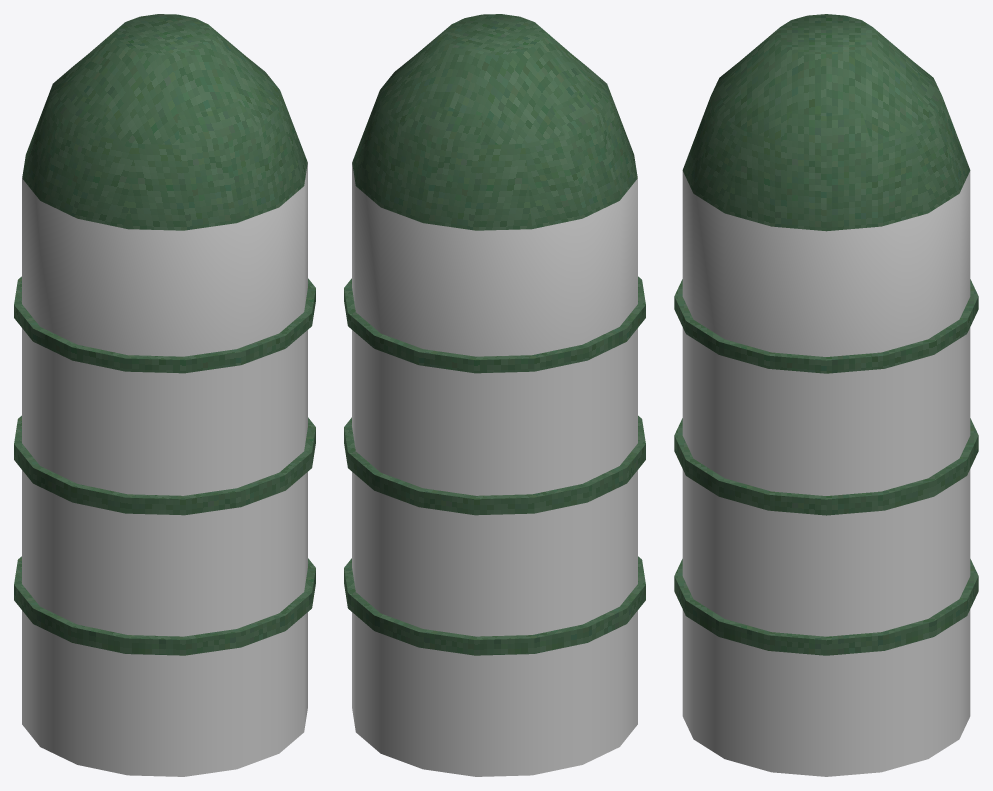
The model's file is GrainSilo.fbx.
3 renders of one model, left to right at view 1: azimuth 30°, elevation 25°; view 2: azimuth 150°, elevation 25°; view 3: azimuth 270°, elevation 25°, orthographic.
Parts seen in each view (by area): view 1: GrainSilo; view 2: GrainSilo; view 3: GrainSilo.
Boxes of the visible parts, x1,y1,x2,y2 form: GrainSilo: [14, 14, 315, 776]; GrainSilo: [344, 14, 645, 776]; GrainSilo: [674, 14, 978, 776].
Bounding box in the file's own units: 3.55 × 3.55 × 8.76.
